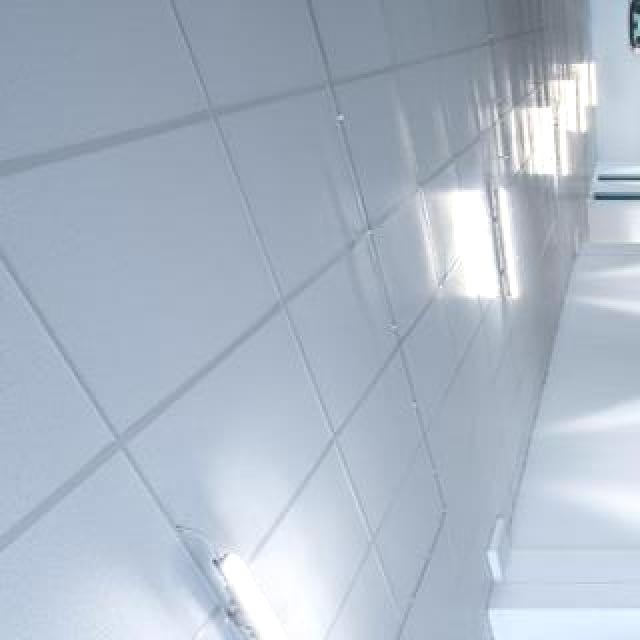fluorescent tube: (204, 528, 358, 640), (491, 171, 525, 327), (547, 96, 578, 193)
